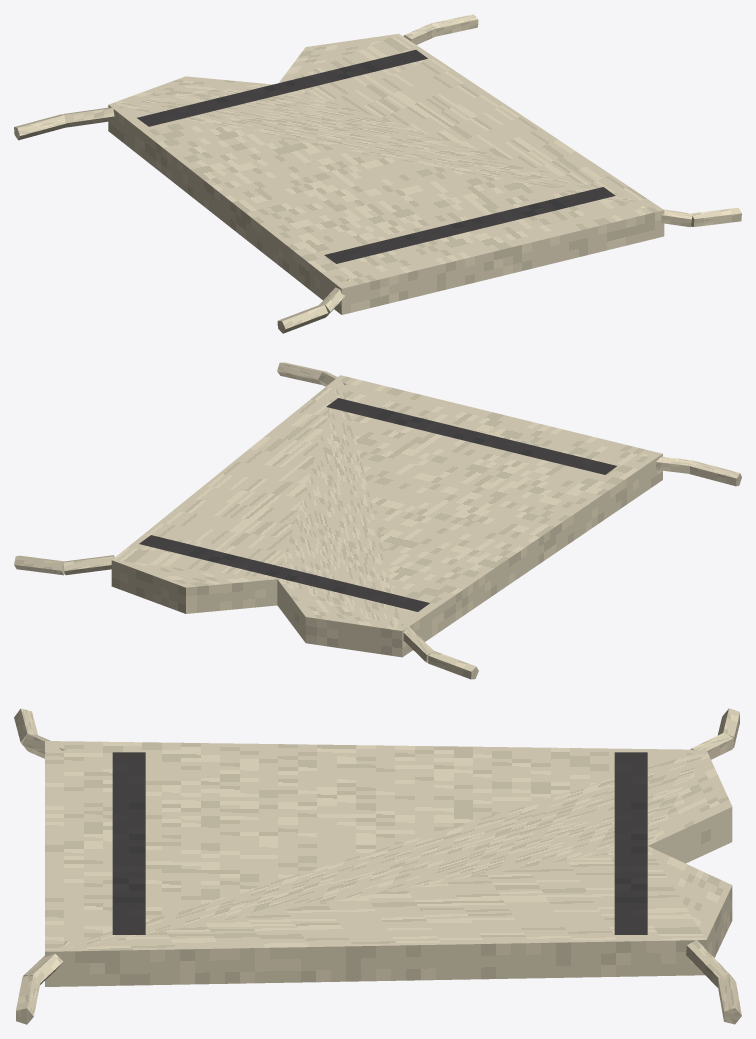
File: tallit_katan.glb
3 renders of one model, top to bottom at view 1: azimuth 30°, elevation 25°; view 2: azimuth 150°, elevation 25°; view 3: azimuth 270°, elevation 25°, orthographic. The views are drawn at different scales.
Visible parts, largest first — view 1: block_woven four-cornered shirt, block_woven dark stripe (×2), block_corner fringe 1 (×4), block_corner fringe 0; view 2: block_woven four-cornered shirt, block_woven dark stripe (×2), block_corner fringe 1 (×4), block_corner fringe 0; view 3: block_woven four-cornered shirt, block_woven dark stripe (×2), block_corner fringe 1 (×3), block_corner fringe 0 (×3).
Boxes of the visible parts, x1,y1,x2,y2 form: block_woven four-cornered shirt: [108, 33, 664, 314]; block_woven dark stripe (×2): [137, 50, 615, 263]; block_corner fringe 1 (×4): [14, 14, 741, 333]; block_corner fringe 0: [63, 107, 114, 127]; block_woven four-cornered shirt: [111, 375, 662, 657]; block_woven dark stripe (×2): [139, 398, 616, 611]; block_corner fringe 1 (×4): [14, 362, 741, 679]; block_corner fringe 0: [63, 555, 114, 575]; block_woven four-cornered shirt: [45, 741, 732, 986]; block_woven dark stripe (×2): [112, 752, 647, 934]; block_corner fringe 1 (×3): [14, 708, 741, 1024]; block_corner fringe 0 (×3): [23, 732, 733, 987].
Bounding box in the file's own units: 0.2401 × 0.0138 × 0.246.
1 material, 1 textured.
